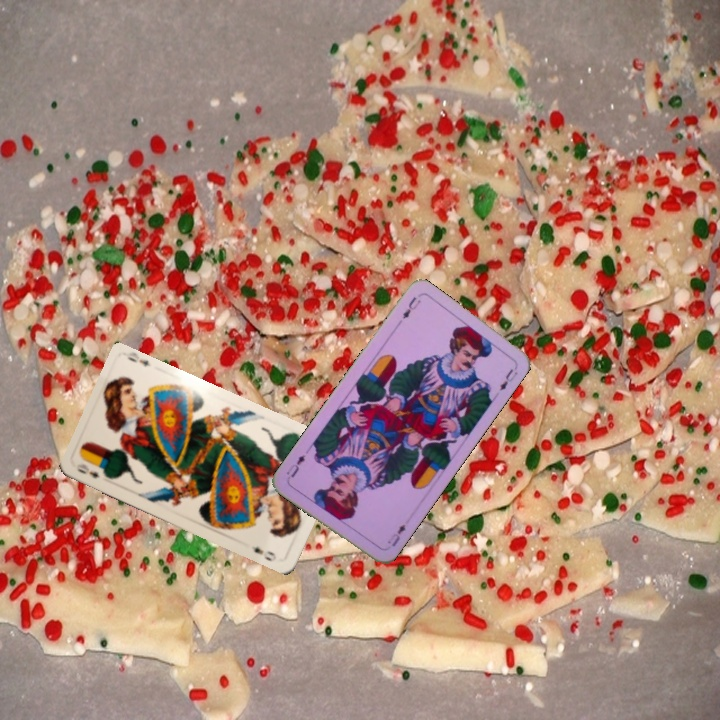EO: (72, 460, 102, 481)
EU: (398, 292, 424, 322), (383, 520, 408, 549)
